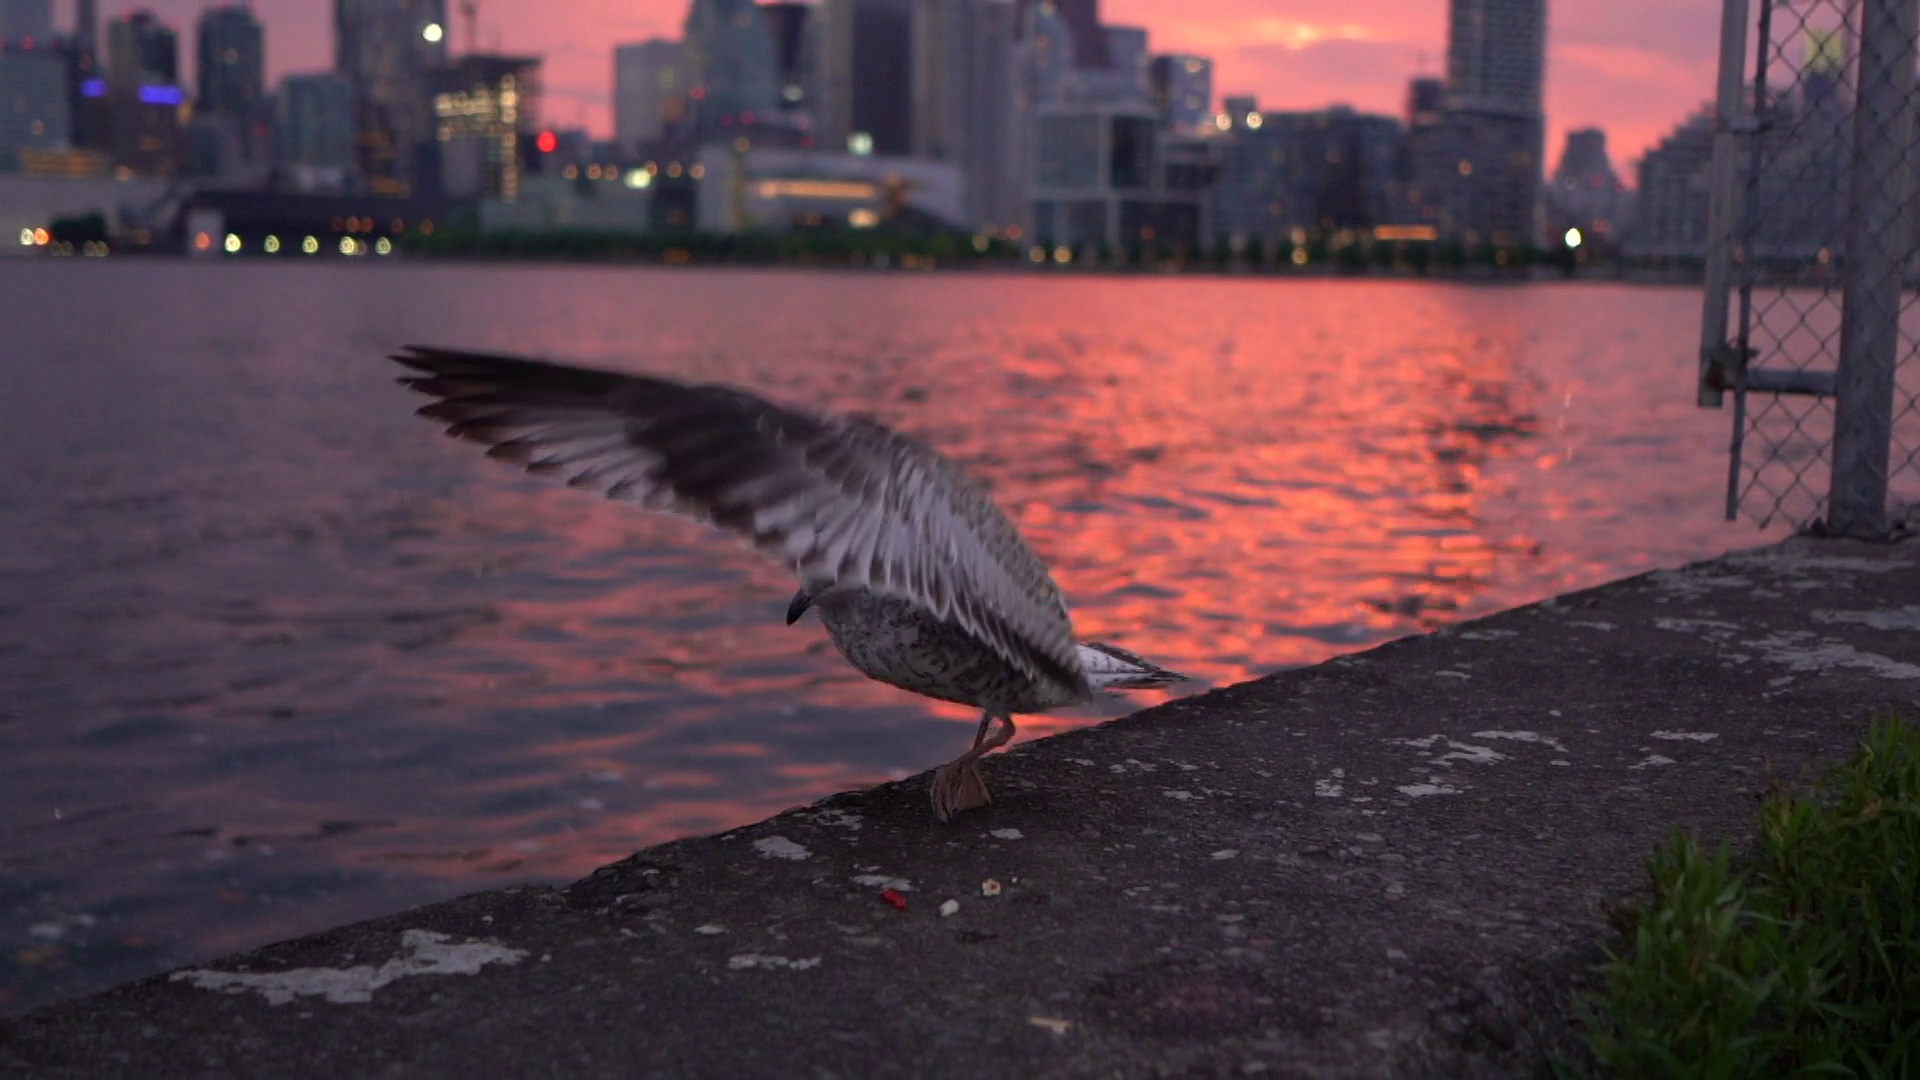bird: (392, 340, 1185, 822)
